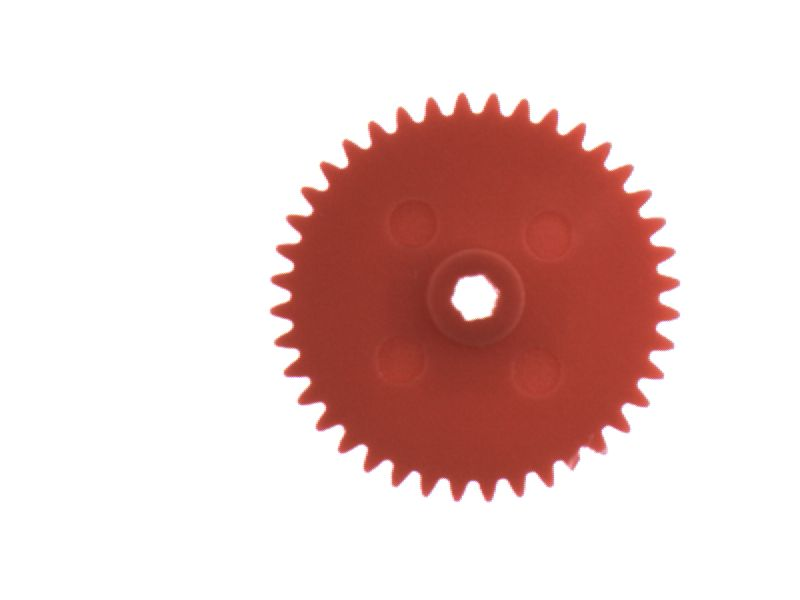defect_break: (552, 441, 596, 482)
